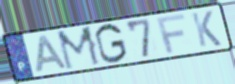7: (124, 18, 154, 59)
A: (35, 34, 69, 74)
F: (155, 12, 187, 55)
G: (93, 22, 129, 65)
K: (190, 10, 223, 49)
M: (55, 25, 103, 72)
